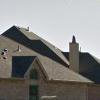Chimney: (61, 31, 88, 69)
